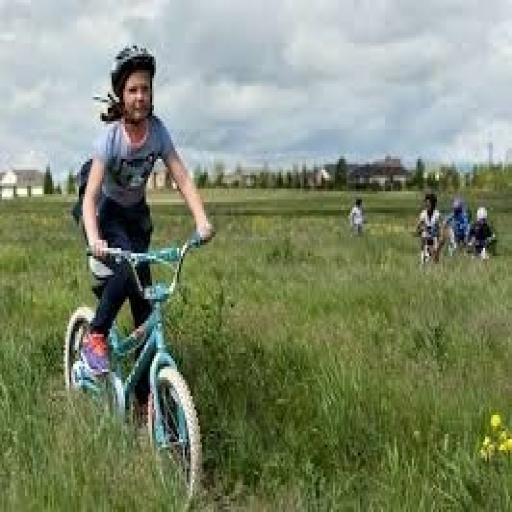cycling: (71, 40, 218, 450), (412, 188, 446, 270), (466, 202, 498, 264)
